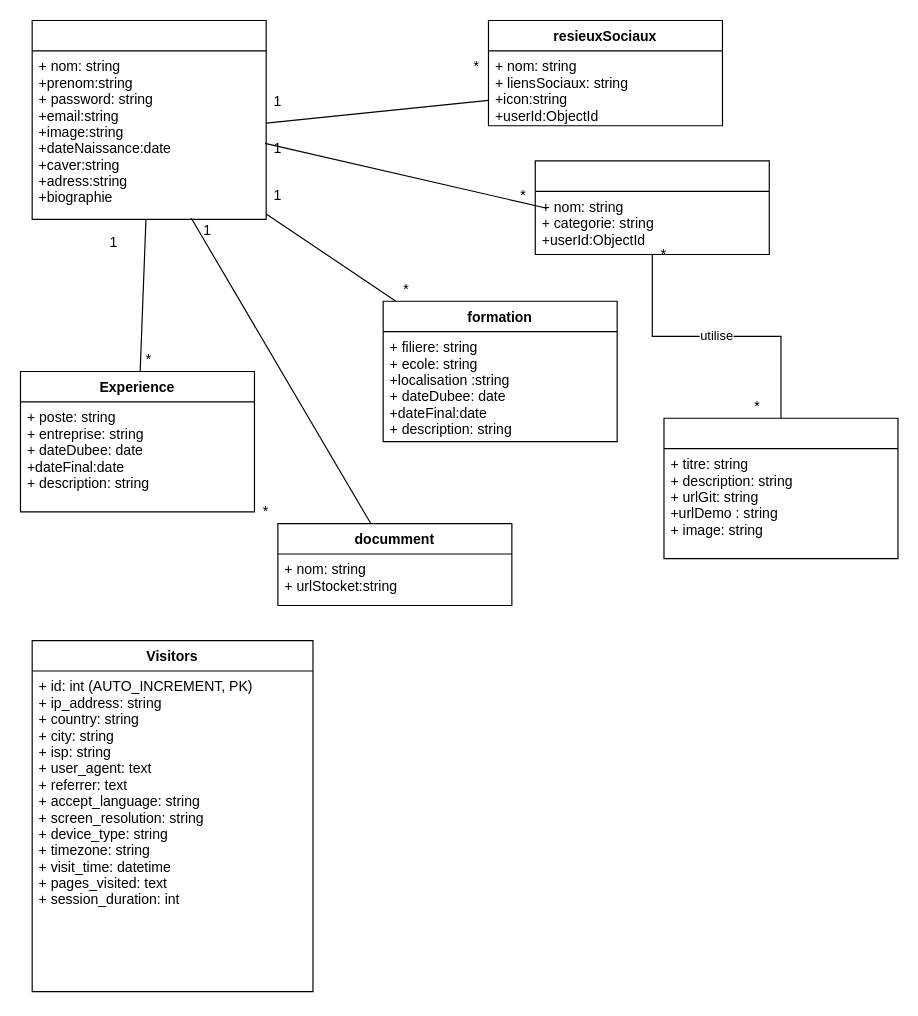
Some shapes in this 918 by 1016 pixel diagram are drawn without their labels. Here are the shapes that lost their labels. From the top down, the box of each, then its label:
(31, 19, 266, 219): User
(534, 160, 769, 254): Competence
(663, 417, 898, 559): Projet
